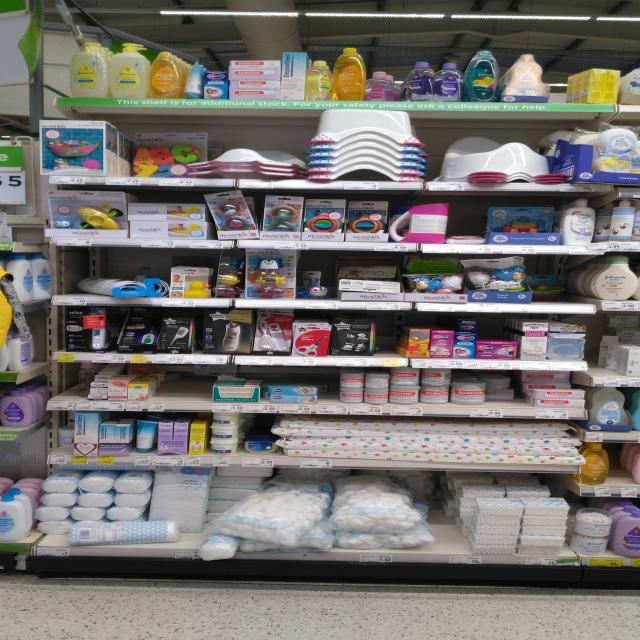empty: (162, 371, 215, 403), (372, 316, 405, 360)
